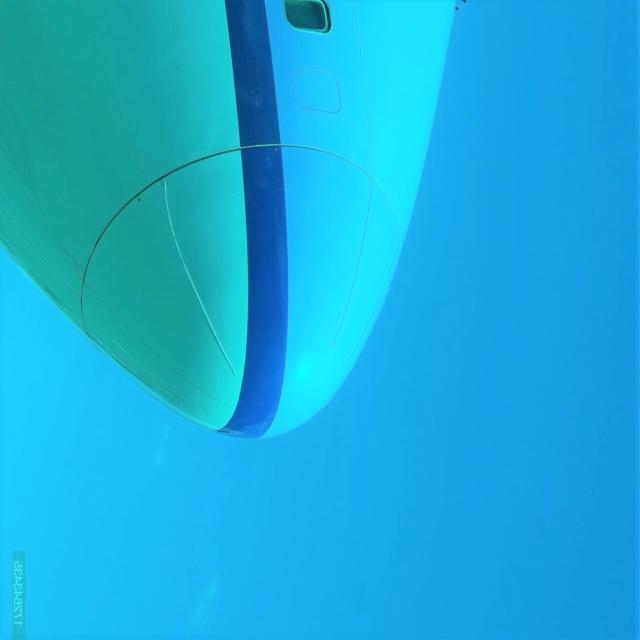crack: (70, 260, 88, 284)
